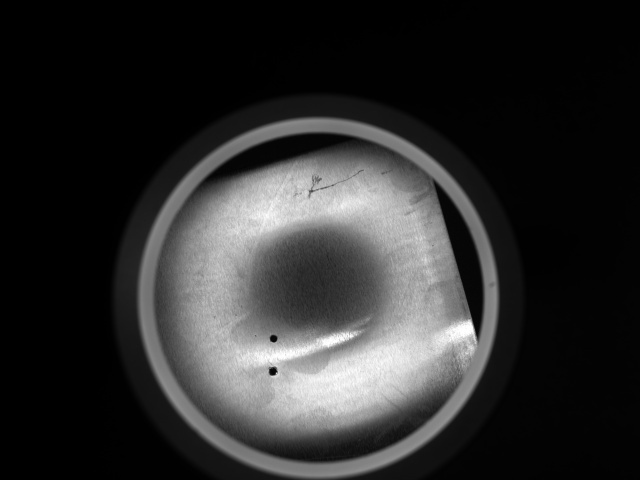ca_shang: (299, 168, 371, 198)
zhen_kong: (263, 364, 282, 379), (267, 331, 283, 346)
